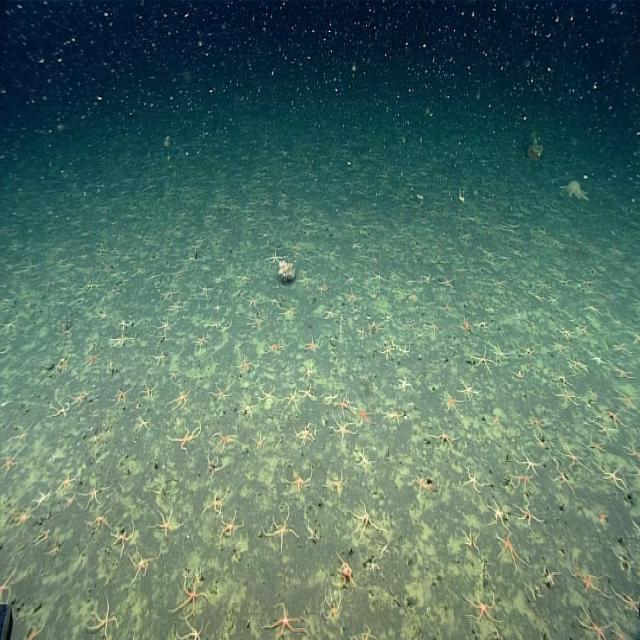brittle-stars: (265, 602, 306, 638), (465, 592, 500, 629), (572, 560, 606, 598), (178, 573, 206, 616), (90, 598, 118, 638), (266, 514, 298, 548), (576, 608, 610, 640), (348, 503, 378, 539), (496, 531, 524, 567), (560, 440, 588, 476), (335, 551, 359, 591), (431, 421, 460, 453), (170, 420, 200, 449), (154, 508, 182, 539), (284, 466, 312, 496), (218, 511, 243, 544), (599, 462, 627, 491), (129, 551, 156, 581), (551, 461, 574, 496), (514, 500, 540, 530), (462, 462, 484, 497), (111, 522, 134, 554), (516, 448, 542, 476), (331, 415, 357, 443), (487, 497, 509, 529), (0, 565, 18, 603), (322, 590, 342, 624), (175, 619, 207, 640), (205, 489, 228, 517), (470, 346, 493, 373), (211, 429, 238, 452), (89, 508, 112, 534), (554, 385, 580, 407), (353, 447, 374, 474), (22, 619, 49, 640), (410, 473, 433, 497), (0, 450, 22, 475), (525, 410, 546, 436), (460, 526, 479, 554), (458, 377, 481, 400), (169, 386, 191, 410), (356, 403, 376, 429), (442, 388, 462, 414), (326, 474, 348, 497), (293, 422, 314, 445), (84, 483, 105, 506), (585, 434, 606, 457), (71, 385, 92, 407), (67, 388, 87, 411), (282, 388, 300, 412), (210, 383, 231, 403), (384, 405, 404, 426), (551, 338, 573, 357), (336, 395, 354, 418), (342, 286, 362, 306), (236, 354, 256, 374), (52, 399, 72, 419), (110, 332, 131, 351), (261, 384, 279, 406), (239, 396, 257, 418), (278, 304, 298, 323), (267, 338, 286, 358), (492, 344, 511, 364), (59, 472, 77, 493), (250, 429, 268, 450), (395, 374, 413, 394), (519, 341, 537, 360), (240, 361, 258, 379), (248, 312, 266, 330), (242, 292, 260, 310), (300, 383, 317, 402), (112, 386, 128, 406), (304, 335, 320, 355), (488, 410, 504, 430), (156, 317, 174, 334), (192, 331, 208, 350), (160, 286, 179, 302), (136, 413, 151, 433), (189, 328, 206, 345), (371, 269, 387, 287), (86, 349, 102, 366), (198, 281, 214, 298), (397, 342, 411, 361), (142, 381, 156, 399), (167, 300, 183, 315), (322, 304, 336, 321), (355, 324, 366, 341)
